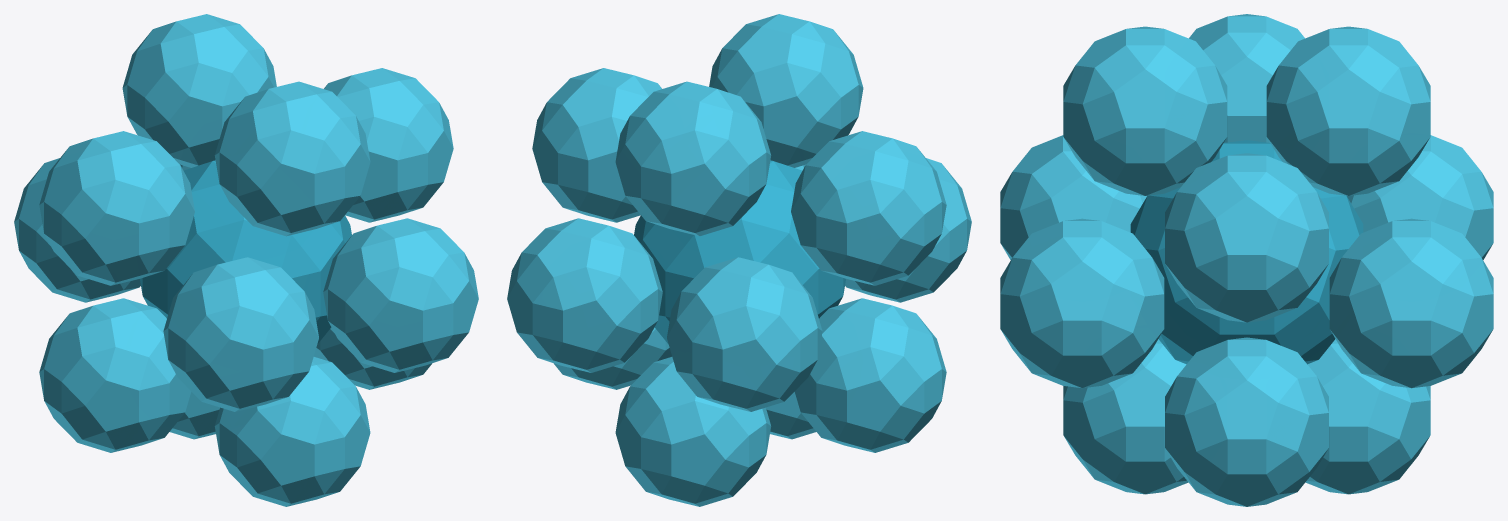
Rendered from fractalrhombicosidodecahedron1.glb.
3 views of the same model, side by side, from view 1: azimuth 30°, elevation 25°; view 2: azimuth 150°, elevation 25°; view 3: azimuth 270°, elevation 25° (orthographic). The views are drawn at different scales.
Size of the model in its own units: 9.66 by 9.66 by 9.66.
